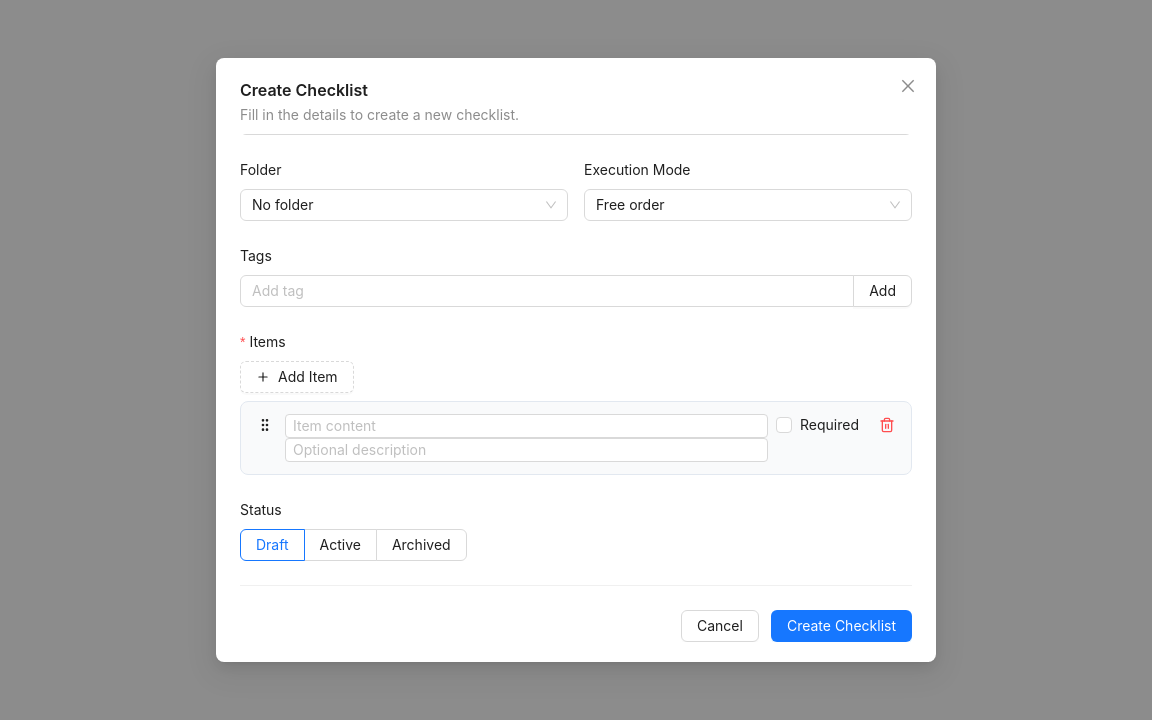
Test: ChecklistFormModal › keeps zod title validation before creating a checklist
This screenshot has width=1152, height=720.
(page scrolled)
Click the button "Create Checklist" at (841, 626), box left=771, top=610, right=912, bottom=642
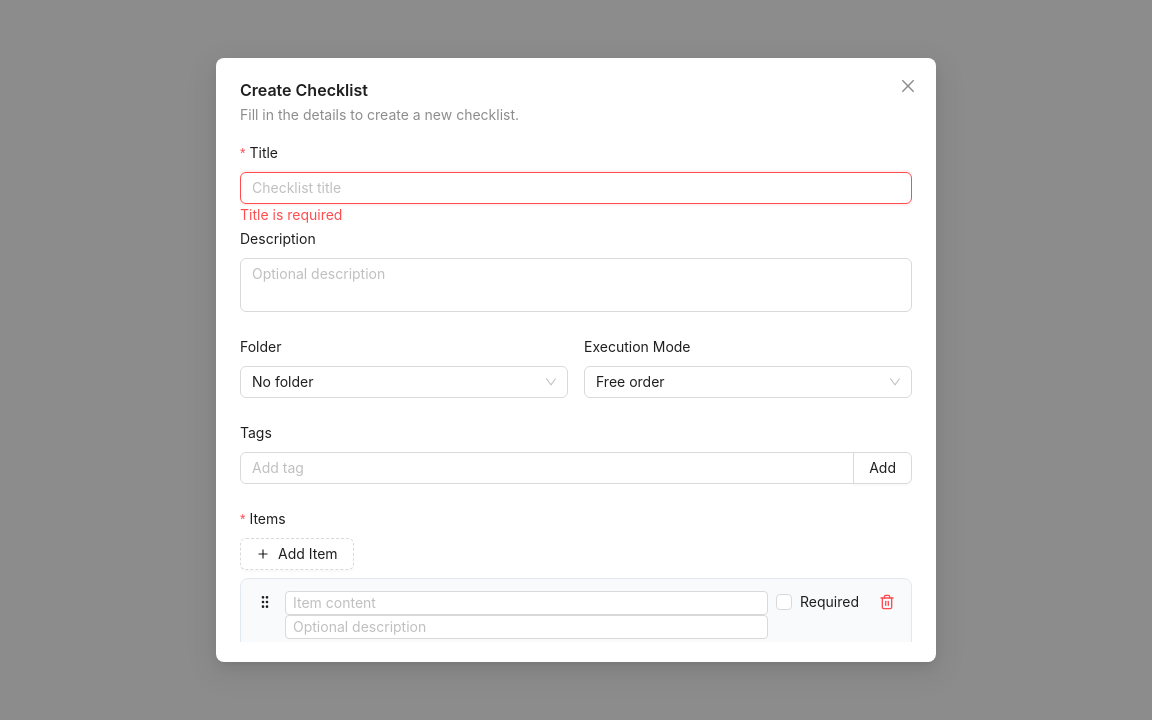
Result: the text "Title is required" is shown at left=240, top=206, right=342, bottom=223
